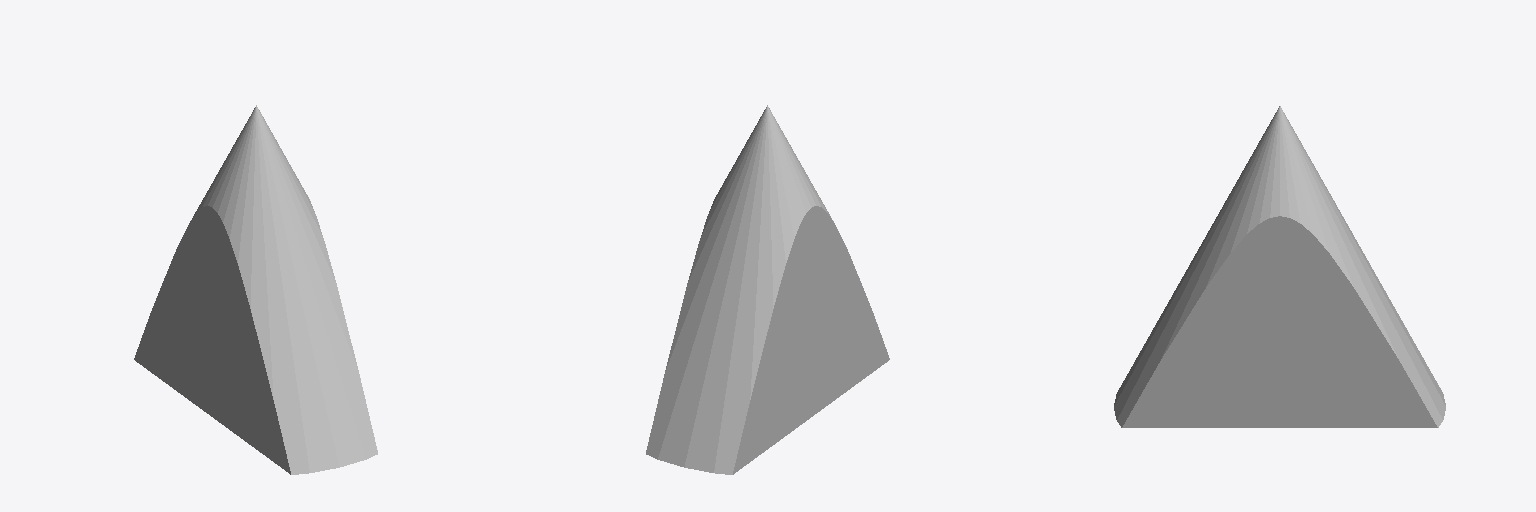
Rendered from hand.obj.
3 views of the same model, side by side, from view 1: azimuth 30°, elevation 25°; view 2: azimuth 150°, elevation 25°; view 3: azimuth 270°, elevation 25° (orthographic).
Visible parts, largest first — view 1: Cone; view 2: Cone; view 3: Cone.
Boxes of the visible parts, x1,y1,x2,y2 form: Cone: [134, 105, 377, 474]; Cone: [646, 105, 889, 474]; Cone: [1114, 106, 1445, 427].
Bounding box in the file's own units: 0.6023 × 2 × 2.